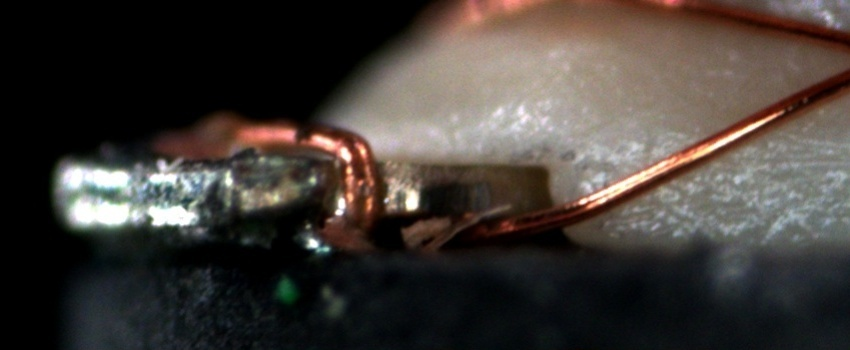DL: (690, 132, 849, 196)
TE: (214, 117, 383, 233)
